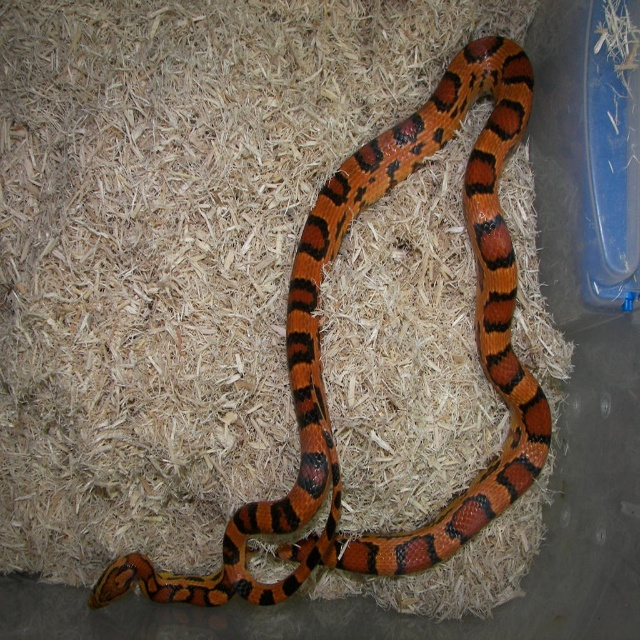Snake: (88, 36, 555, 605)
